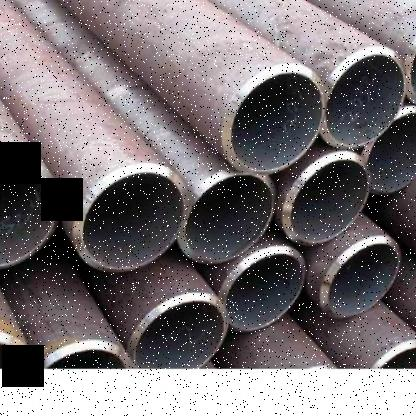pipe: (76, 168, 187, 273), (225, 70, 324, 174), (180, 171, 276, 264), (321, 52, 407, 150), (282, 154, 371, 246), (218, 250, 306, 332), (130, 297, 229, 368), (320, 237, 402, 319), (0, 161, 60, 268), (363, 105, 416, 193), (38, 338, 135, 368), (372, 336, 416, 369), (407, 14, 416, 105)
